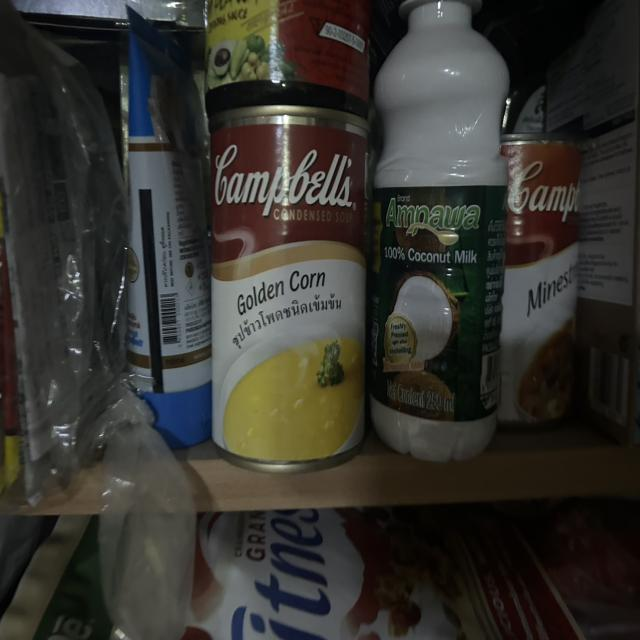can: (173, 90, 385, 492)
